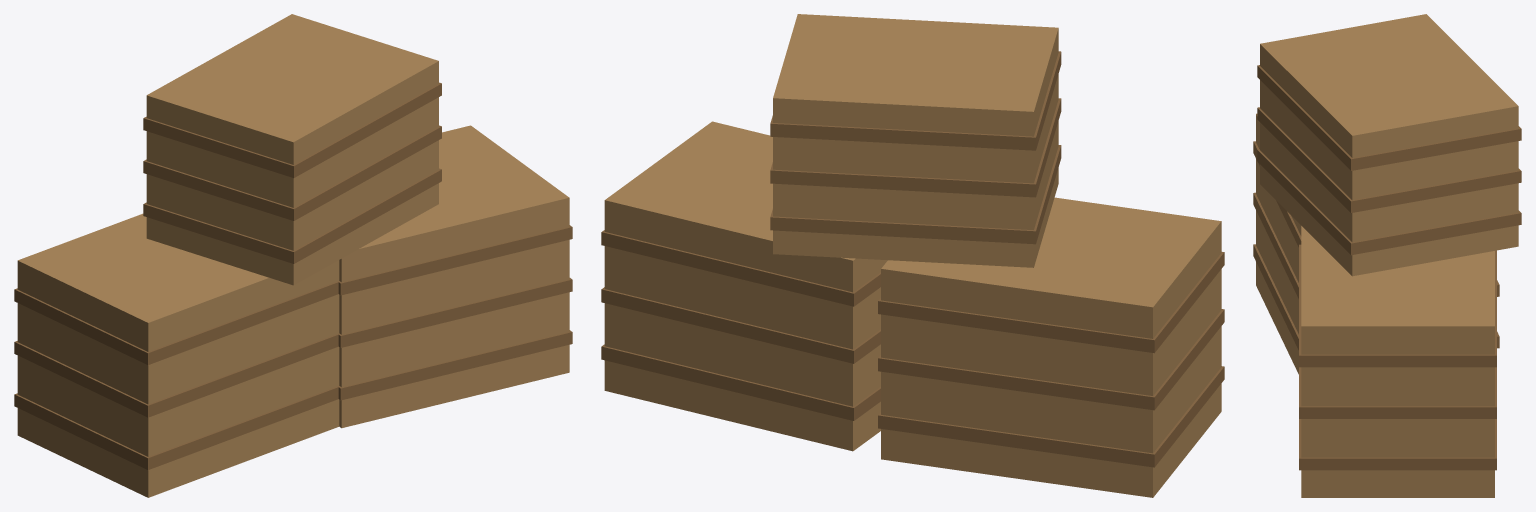
Rendered from lwf_backstage_crate_pile_v1.glb.
3 renders of one model, left to right at view 1: azimuth 30°, elevation 25°; view 2: azimuth 150°, elevation 25°; view 3: azimuth 270°, elevation 25°, orthographic. The views are drawn at different scales.
Parts seen in each view (by area): view 1: LWF_CratePile; view 2: LWF_CratePile; view 3: LWF_CratePile.
Part boxes in pixels (left/top/right/bottom): LWF_CratePile: left=14, top=14, right=572, bottom=497; LWF_CratePile: left=601, top=14, right=1224, bottom=497; LWF_CratePile: left=1253, top=14, right=1521, bottom=497.
Size of the model in its own units: 1.27 by 0.8 by 0.6231.
Materials: 1 (1 with a texture image).
